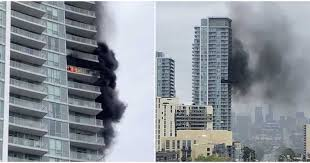smoke: (231, 3, 310, 124), (94, 3, 125, 150)
